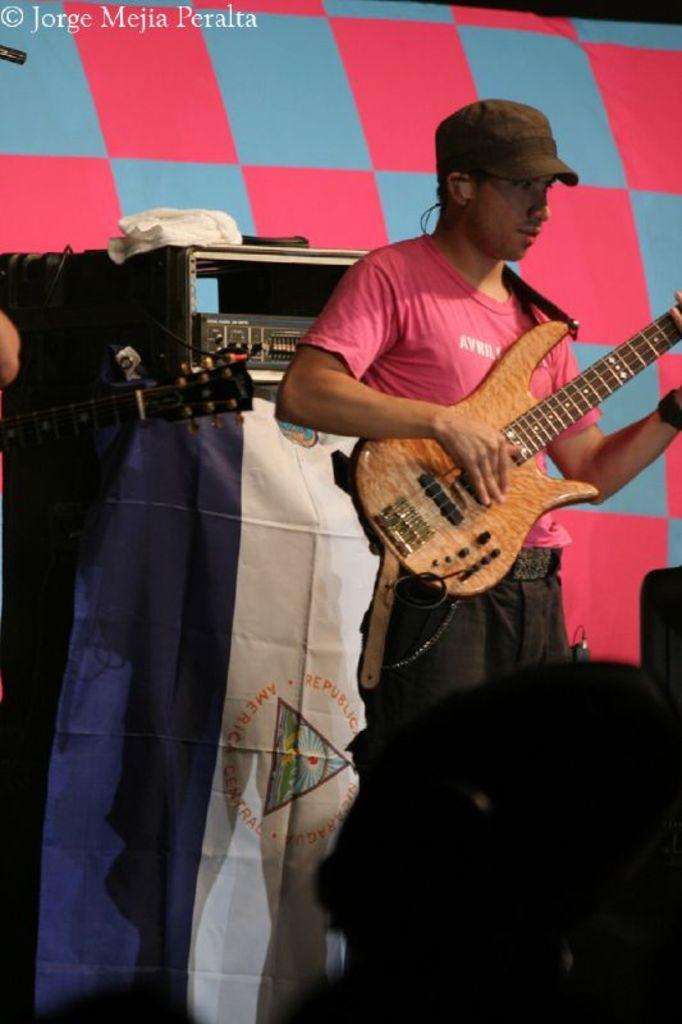Hat: (434, 98, 580, 186)
